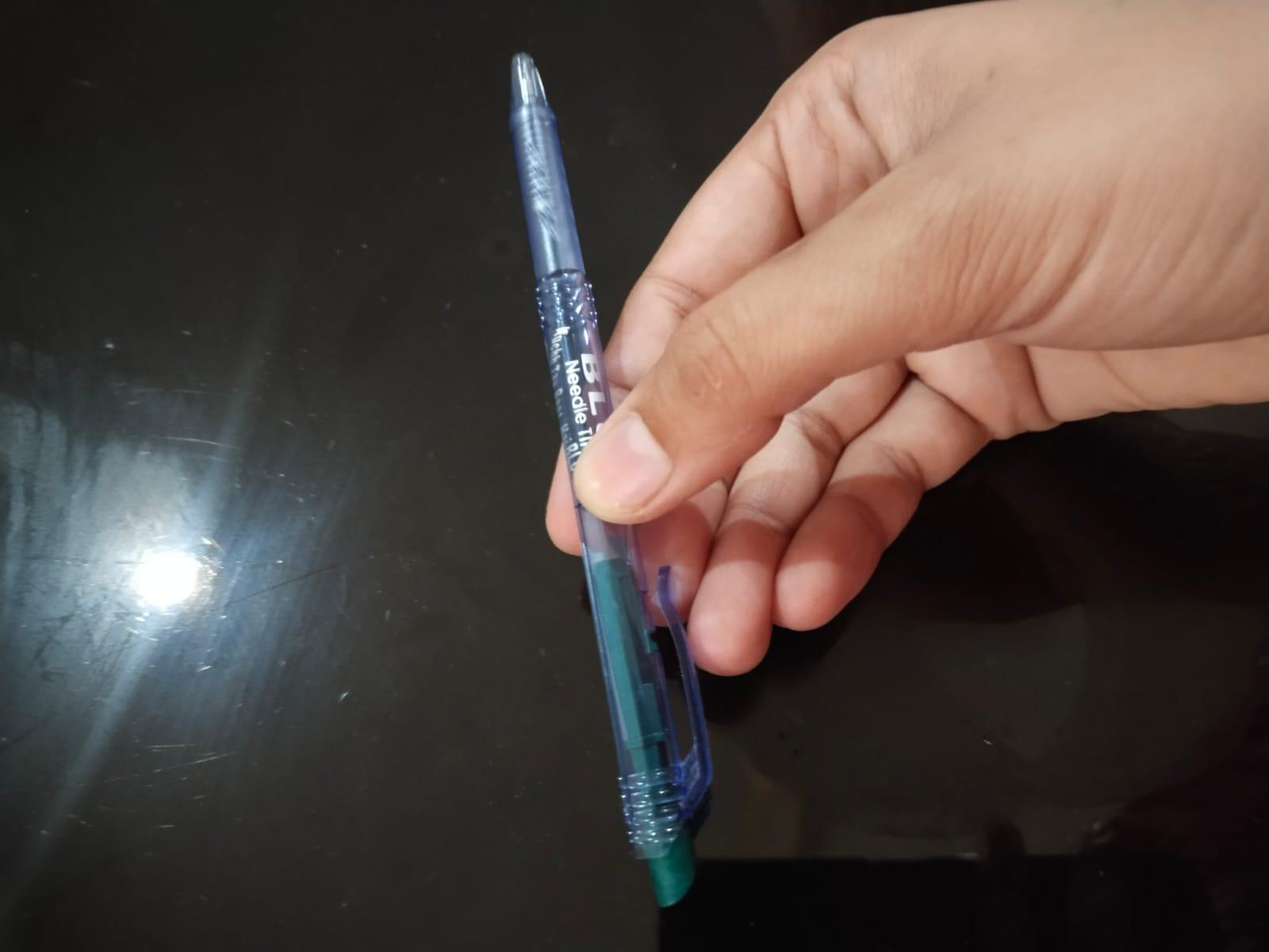ballpoint2: (578, 507, 711, 906), (508, 57, 611, 462)
